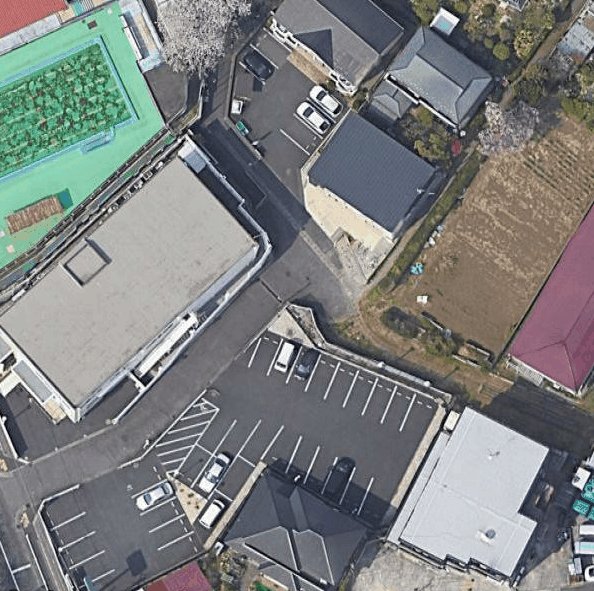flatroof: (0, 141, 266, 404), (386, 396, 569, 589)
parkinglot: (201, 324, 444, 522), (35, 421, 239, 589)
